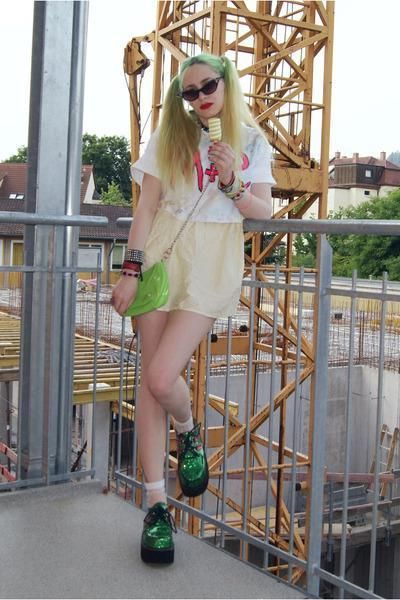short sleeve shirt: (128, 121, 278, 225)
skirt: (127, 221, 250, 318)
